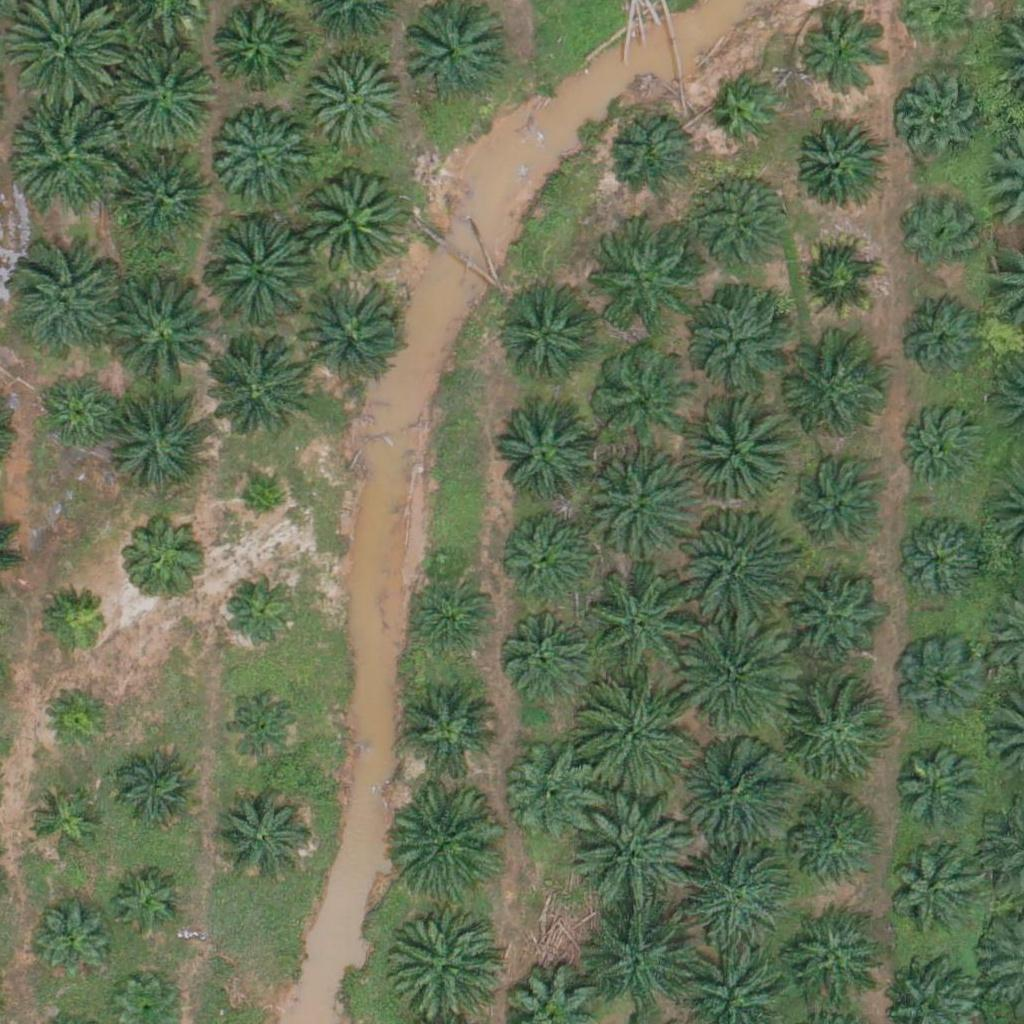Kelapa_Sawit: (390, 782, 503, 896), (574, 799, 687, 912), (386, 906, 499, 1019), (683, 620, 796, 733), (683, 509, 796, 622), (682, 391, 795, 504), (683, 276, 796, 389), (580, 451, 693, 564), (582, 680, 695, 793), (199, 216, 312, 329), (196, 333, 309, 446), (14, 97, 127, 210), (11, 245, 124, 358), (679, 837, 791, 951), (687, 734, 799, 848), (103, 275, 215, 389), (107, 34, 219, 148), (585, 897, 697, 1010), (779, 335, 891, 448), (781, 685, 893, 798), (587, 565, 699, 678), (295, 168, 407, 281), (292, 276, 404, 389), (108, 385, 220, 498), (211, 788, 311, 889), (890, 633, 990, 734), (782, 573, 882, 674), (584, 233, 684, 334), (590, 345, 690, 446), (496, 499, 596, 600), (496, 407, 596, 508), (502, 281, 602, 382), (398, 679, 498, 780), (399, 5, 499, 106), (306, 54, 406, 155), (211, 107, 311, 208), (783, 916, 883, 1016), (891, 512, 991, 612), (691, 168, 791, 268), (503, 742, 603, 842), (499, 601, 599, 701), (118, 145, 218, 245), (28, 894, 116, 983), (220, 682, 308, 771), (888, 845, 976, 933), (785, 799, 873, 887), (35, 371, 123, 459), (891, 742, 979, 830), (897, 189, 985, 277), (898, 301, 986, 389), (898, 406, 986, 494), (606, 109, 694, 197), (120, 508, 208, 596), (114, 747, 202, 835), (895, 72, 982, 160), (797, 13, 884, 101), (793, 118, 880, 206), (218, 564, 305, 652), (793, 236, 880, 324), (790, 457, 877, 545), (405, 567, 492, 655), (709, 75, 784, 151), (40, 585, 115, 660), (25, 785, 100, 860), (113, 869, 188, 944), (40, 681, 115, 756), (237, 479, 287, 529)
